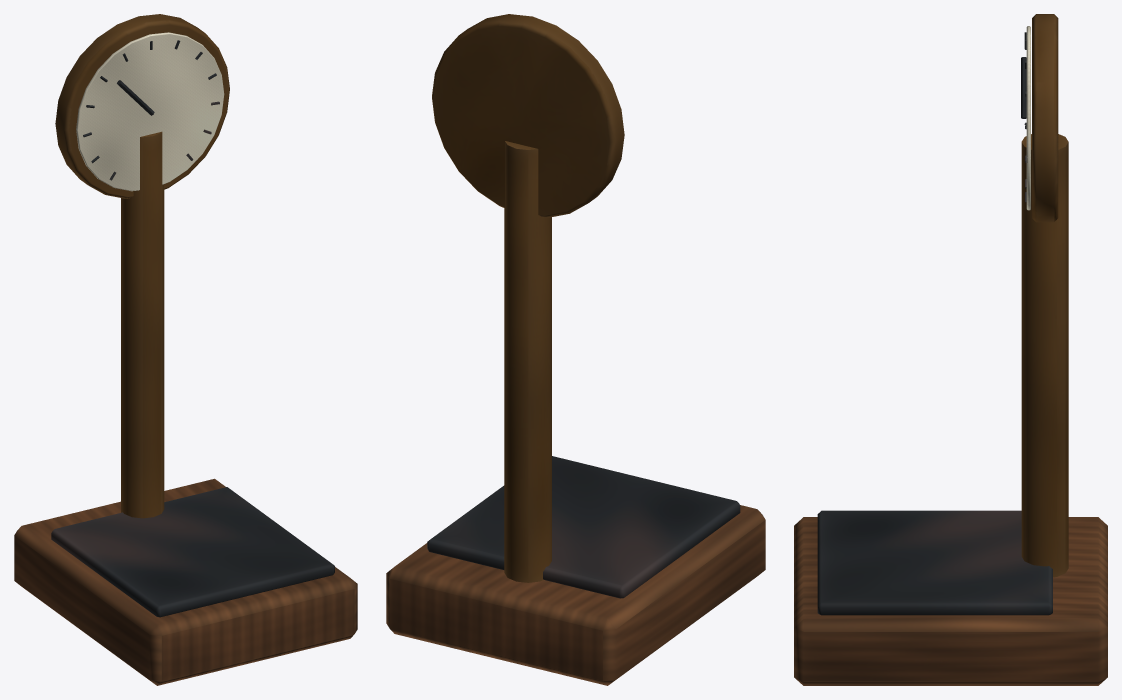
File: Furn_Dress_Scale.fbx
The picture shows the model from 3 angles, left to right: view 1: azimuth 30°, elevation 25°; view 2: azimuth 150°, elevation 25°; view 3: azimuth 270°, elevation 25°; orthographic projection. The views are drawn at different scales.
Parts seen in each view (by area): view 1: Furn_Dress_Scale; view 2: Furn_Dress_Scale; view 3: Furn_Dress_Scale.
Boxes of the visible parts, box(x1,y1,x2,y2) form: Furn_Dress_Scale: box(14, 14, 357, 685); Furn_Dress_Scale: box(386, 14, 765, 685); Furn_Dress_Scale: box(794, 14, 1107, 685).
Size of the model in its own units: 0.5 by 1.29 by 0.6.
Materials: 4 (4 with a texture image).
